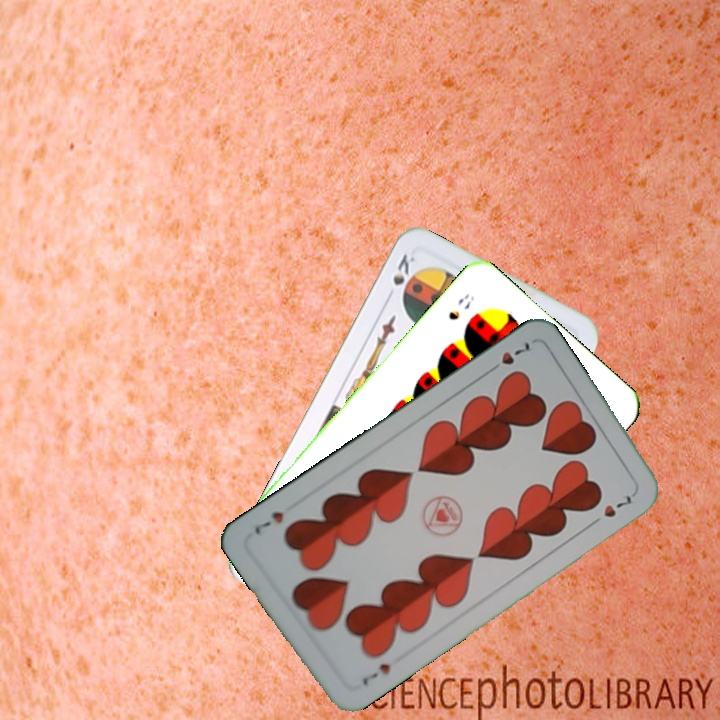H7: (483, 337, 536, 376), (357, 659, 393, 689)
S8: (444, 289, 477, 323)
SK: (382, 249, 418, 304)
